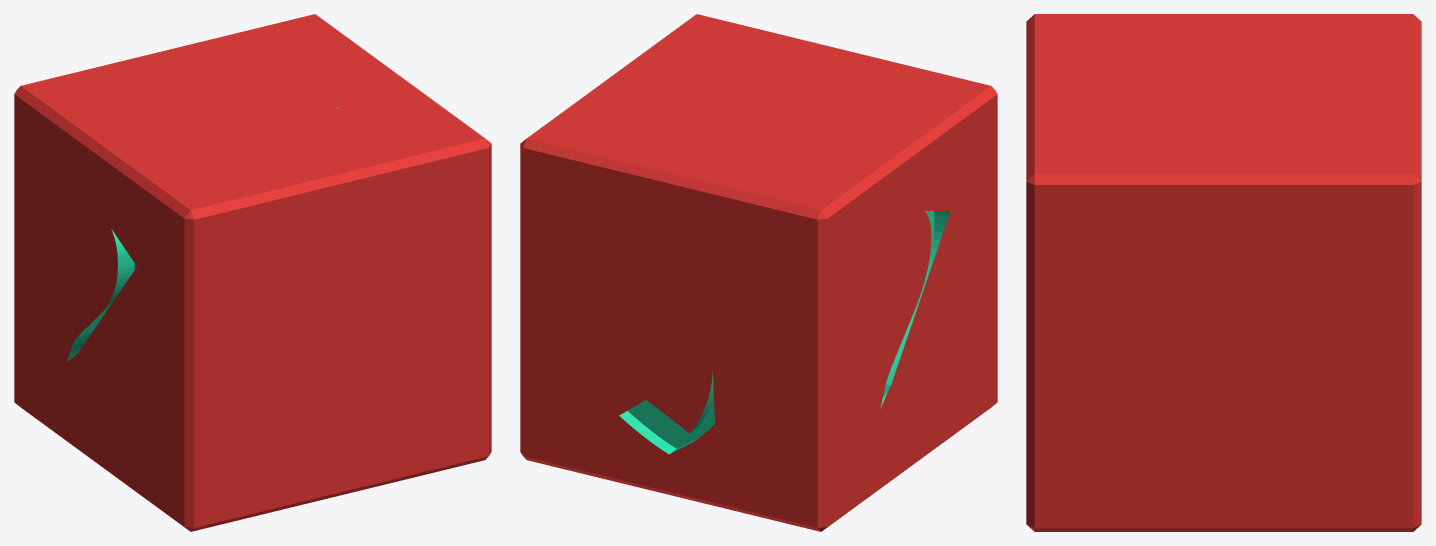
3 renders of one model, left to right at view 1: azimuth 30°, elevation 25°; view 2: azimuth 150°, elevation 25°; view 3: azimuth 270°, elevation 25°, orthographic. The views are drawn at different scales.
Parts seen in each view (by area): view 1: Solid.002; view 2: Solid.002; view 3: Solid.002.
Boxes of the visible parts, <box> form: Solid.002: <box>14,14,491,531</box>; Solid.002: <box>520,14,997,531</box>; Solid.002: <box>1026,14,1421,531</box>.
Bounding box in the file's own units: 144 × 144 × 144.
